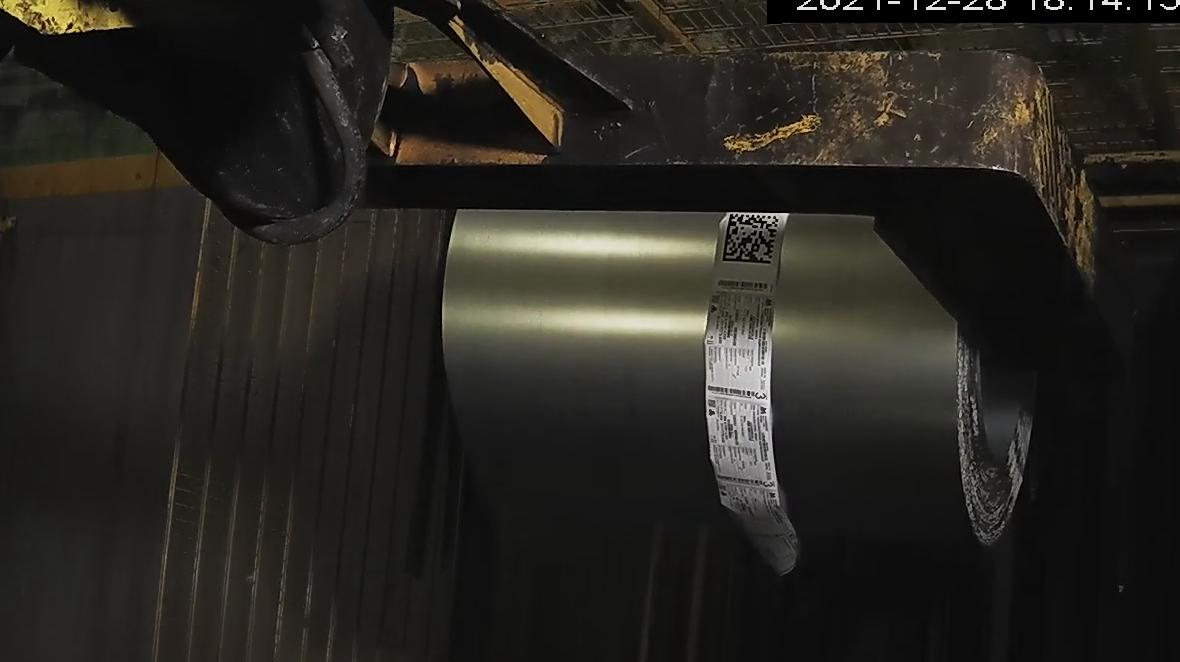data matrix: (721, 212, 782, 266)
